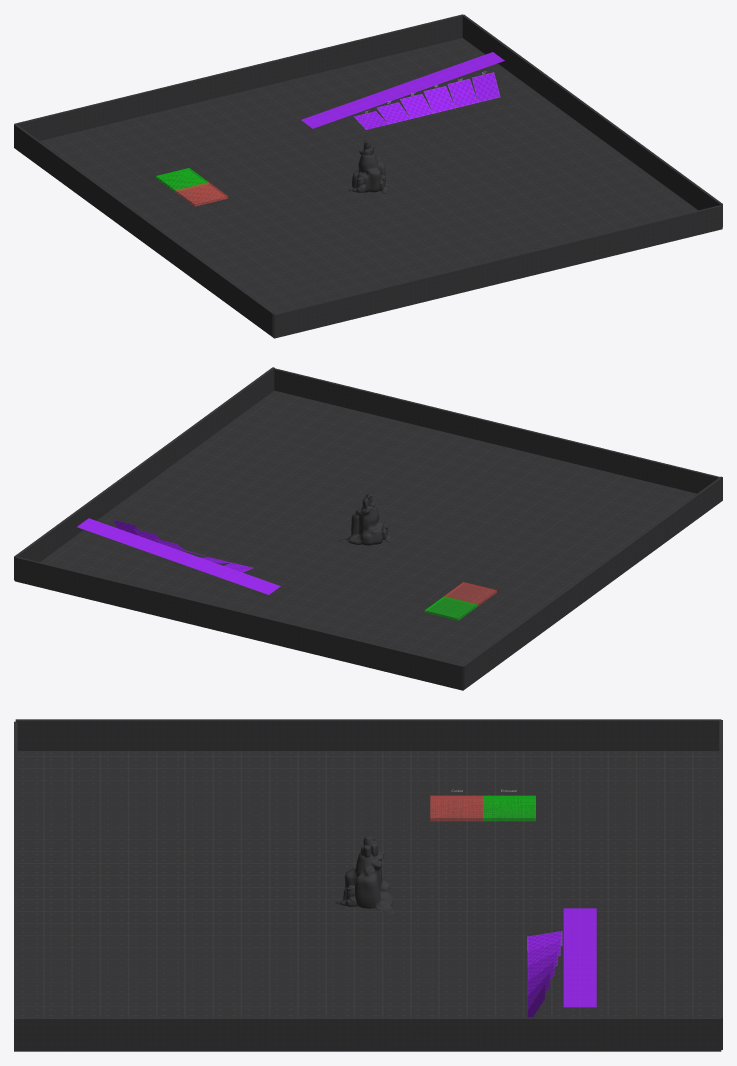
The picture shows the model from 3 angles, top to bottom: view 1: azimuth 30°, elevation 25°; view 2: azimuth 150°, elevation 25°; view 3: azimuth 270°, elevation 25°; orthographic projection. The views are drawn at different scales.
Visible parts, largest first — view 1: Floor, Wall, Wall.001, Wall.002, Wall.003, Slopes, Plane, Rock, CombatZone, ExplorationZone; view 2: Floor, Wall.001, Wall, Wall.002, Wall.003, Plane, Rock, ExplorationZone, Slopes, CombatZone; view 3: Floor, Wall.003, Wall.002, Plane, Slopes, Rock, ExplorationZone, CombatZone, Wall, Wall.001.
Part boxes in pixels (bbox=[...]): Floor: bbox=[40, 38, 697, 313]; Wall: bbox=[273, 205, 722, 338]; Wall.001: bbox=[14, 14, 463, 140]; Wall.002: bbox=[14, 124, 274, 336]; Wall.003: bbox=[462, 14, 722, 226]; Slopes: bbox=[354, 72, 500, 129]; Plane: bbox=[301, 52, 504, 128]; Rock: bbox=[352, 153, 385, 192]; CombatZone: bbox=[175, 182, 228, 206]; ExplorationZone: bbox=[156, 168, 208, 192]; Floor: bbox=[15, 390, 696, 690]; Wall.001: bbox=[14, 556, 463, 689]; Wall: bbox=[274, 368, 719, 493]; Wall.002: bbox=[462, 476, 722, 689]; Wall.003: bbox=[14, 367, 274, 579]; Plane: bbox=[77, 518, 280, 594]; Rock: bbox=[338, 505, 382, 545]; ExplorationZone: bbox=[424, 596, 477, 620]; Slopes: bbox=[113, 520, 253, 572]; CombatZone: bbox=[444, 582, 496, 606]; Floor: bbox=[17, 751, 721, 1051]; Wall.003: bbox=[15, 1017, 721, 1050]; Wall.002: bbox=[15, 719, 721, 750]; Plane: bbox=[563, 908, 596, 1007]; Slopes: bbox=[527, 931, 562, 1017]; Rock: bbox=[344, 852, 394, 913]; ExplorationZone: bbox=[483, 795, 535, 821]; CombatZone: bbox=[430, 795, 482, 821]; Wall: bbox=[14, 721, 17, 1051]; Wall.001: bbox=[719, 720, 722, 1049].
Size of the model in its own units: 402 by 41.4 by 402.
6 materials, 4 textured.
